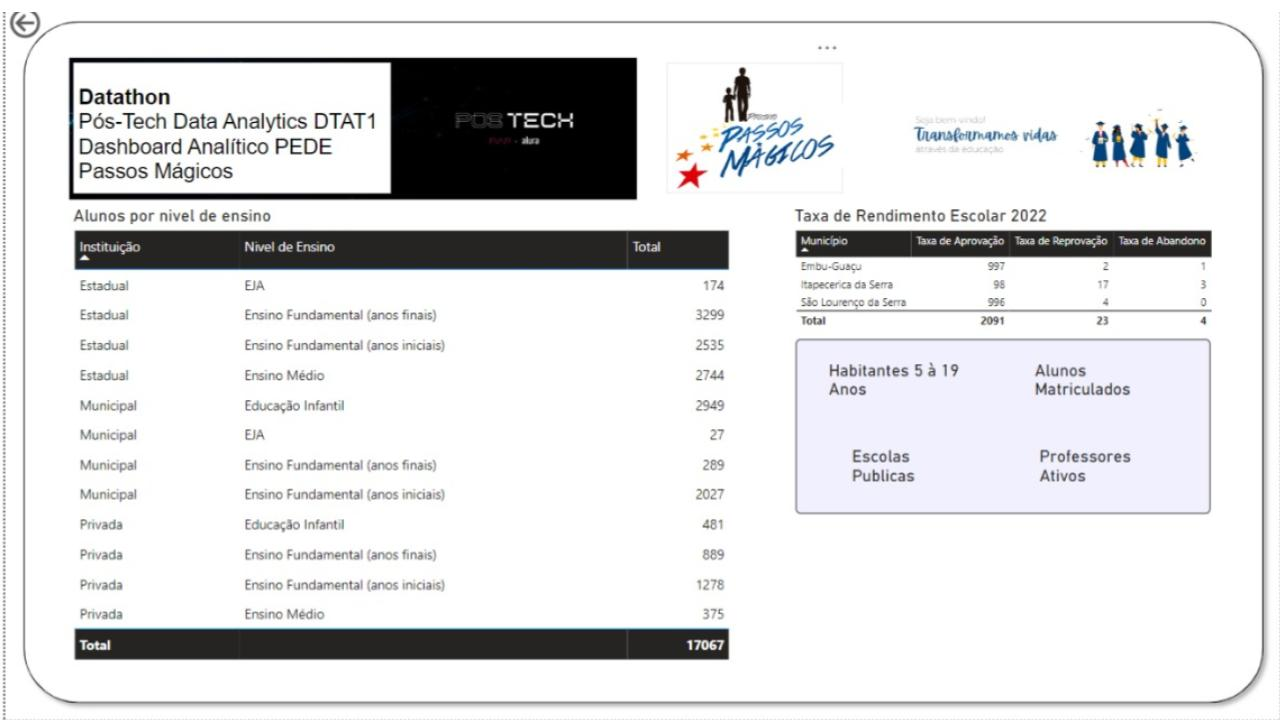

What the dashboard file says about the page in this screenshot:
{"tool":"powerbi","page":{"name":"Página 1","canvas":[1280,720],"ordinal":0},"visuals":[{"type":"shape","box":[0,0,1280,720],"z":0},{"type":"image","box":[664,60,177.5,131.2],"z":1000},{"type":"image","box":[827.5,73.8,391.2,117.5],"z":2000},{"type":"textbox","box":[793.8,337.5,416.2,175],"z":3000},{"type":"image","box":[58.8,50,581.2,152.5],"z":4000},{"type":"textbox","box":[68.8,60,318.8,131.2],"z":5000},{"type":"tableEx","title":"Taxa de Rendimento Escolar 2022","fields":{"Values":["INEP_Taxa_de_Rendimento.Nome do Município","Sum(INEP_Taxa_de_Rendimento.Taxa de Aprovação)","Sum(INEP_Taxa_de_Rendimento.Taxa de Reprovação)","Sum(INEP_Taxa_de_Rendimento.Taxa de Reprovação_1)"]},"box":[787.5,202.5,431.2,131.2],"z":6000},{"type":"card","title":"Escolas Publicas","fields":{"Values":["Sum(escolas_embu_guacu_2020.total)"]},"box":[845,445,136.2,51.2],"z":7000},{"type":"card","title":"Alunos Matriculados","fields":{"Values":["Sum(alunos_matriculados_embu_guacu_2020.total)"]},"box":[1027.5,358.8,162.5,51.2],"z":8000},{"type":"card","title":"Professores Ativos","fields":{"Values":["Sum(professores_embu_guacu_2020.total)"]},"box":[1032.5,445,152.5,45],"z":9000},{"type":"card","title":"Habitantes 5 à 19 Anos","fields":{"Values":["Sum(populacao_embu_guacu_2022_raca_sexo_idade (2).habitantes)"]},"box":[821.2,358.8,183.8,51.2],"z":10000},{"type":"actionButton","box":[0,0,100,40],"z":11000},{"type":"tableEx","title":"Alunos por nivel de ensino","fields":{"Values":["alunos_matriculados_embu_guacu_2020.adm_dependency_name","alunos_matriculados_embu_guacu_2020.education_level_cat","Sum(alunos_matriculados_embu_guacu_2020.total)"]},"box":[63.8,202.5,680,462.5],"z":12000}]}

Visuals, with their boxes on the page's 1280x720 design canvas (x1, y1, x2, y2). These are canvas units, not pixel positions in the 1280x720 screenshot, which may show the page scaled, cropped or inside an application window:
shape: {"left": 0, "top": 0, "right": 1280, "bottom": 720}
image: {"left": 664, "top": 60, "right": 842, "bottom": 191}
image: {"left": 828, "top": 74, "right": 1219, "bottom": 191}
textbox: {"left": 794, "top": 338, "right": 1210, "bottom": 512}
image: {"left": 59, "top": 50, "right": 640, "bottom": 202}
textbox: {"left": 69, "top": 60, "right": 388, "bottom": 191}
"Taxa de Rendimento Escolar 2022" tableEx: {"left": 788, "top": 202, "right": 1219, "bottom": 334}
"Escolas Publicas" card: {"left": 845, "top": 445, "right": 981, "bottom": 496}
"Alunos Matriculados" card: {"left": 1028, "top": 359, "right": 1190, "bottom": 410}
"Professores Ativos" card: {"left": 1032, "top": 445, "right": 1185, "bottom": 490}
"Habitantes 5 à 19 Anos" card: {"left": 821, "top": 359, "right": 1005, "bottom": 410}
actionButton: {"left": 0, "top": 0, "right": 100, "bottom": 40}
"Alunos por nivel de ensino" tableEx: {"left": 64, "top": 202, "right": 744, "bottom": 665}
